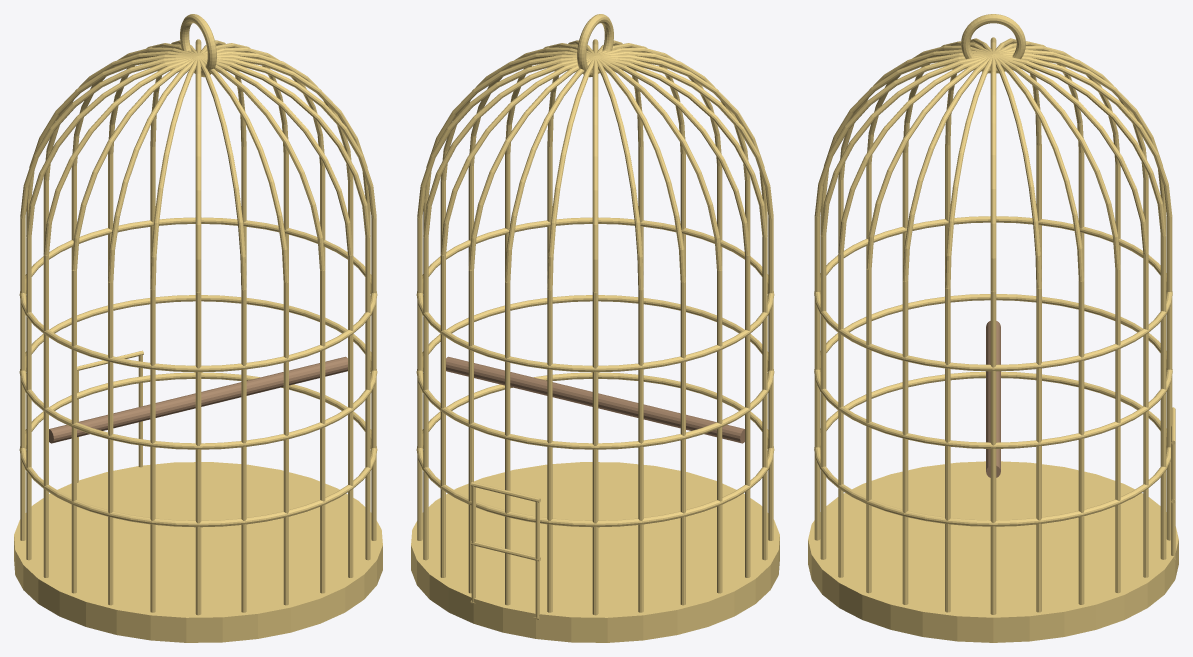
Rendered from birdcage1.glb.
The picture shows the model from 3 angles, left to right: view 1: azimuth 30°, elevation 25°; view 2: azimuth 150°, elevation 25°; view 3: azimuth 270°, elevation 25°; orthographic projection.
Parts seen in each view (by area): view 1: Cage_Base, Cage_Bars, Cage_Roof, Cage_Perch, Cage_Door; view 2: Cage_Base, Cage_Bars, Cage_Roof, Cage_Perch, Cage_Door; view 3: Cage_Base, Cage_Bars, Cage_Roof, Cage_Perch, Cage_Door.
Part boxes in pixels (bbox=[...]): Cage_Base: bbox=[14, 462, 382, 642]; Cage_Bars: bbox=[19, 146, 377, 615]; Cage_Roof: bbox=[20, 14, 376, 292]; Cage_Perch: bbox=[49, 356, 347, 443]; Cage_Door: bbox=[77, 350, 143, 482]; Cage_Base: bbox=[411, 462, 779, 642]; Cage_Bars: bbox=[416, 146, 774, 615]; Cage_Roof: bbox=[417, 14, 773, 292]; Cage_Perch: bbox=[446, 356, 744, 443]; Cage_Door: bbox=[470, 482, 540, 619]; Cage_Base: bbox=[808, 461, 1178, 642]; Cage_Bars: bbox=[814, 144, 1172, 614]; Cage_Roof: bbox=[814, 14, 1172, 291]; Cage_Perch: bbox=[986, 321, 1000, 477]; Cage_Door: bbox=[1171, 407, 1175, 561].
Size of the model in its own units: 4 by 6.55 by 4.
